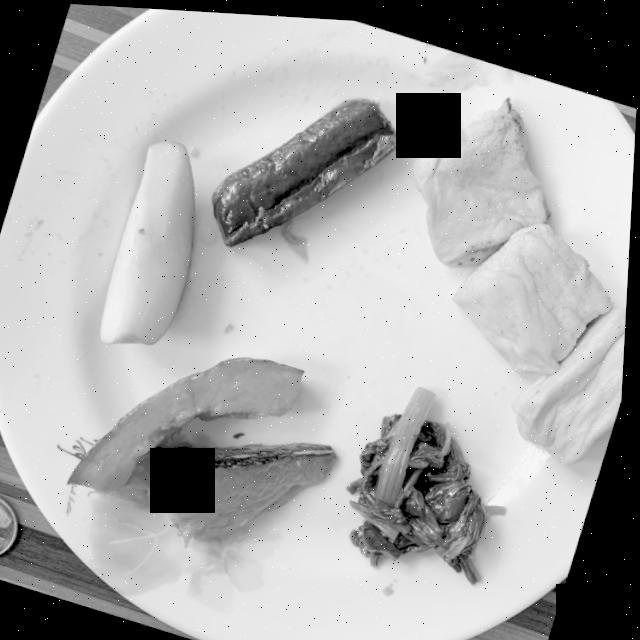apple -sliced-: (103, 137, 197, 342)
coin: (0, 493, 23, 555)
creamy tofu -without sauce-: (415, 92, 629, 457)
firm tofu: (213, 93, 406, 243)
mustard greens: (351, 380, 511, 577)
pumpkin: (73, 353, 341, 542)
